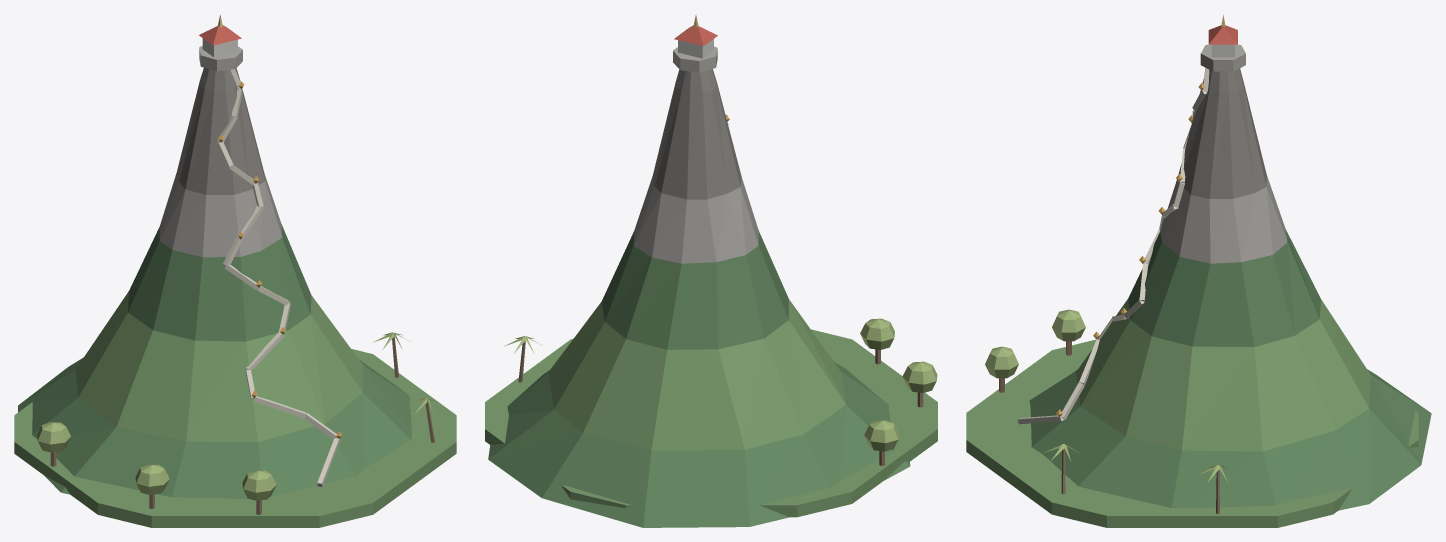
The model's file is sri-pada.glb.
3 views of the same model, side by side, from view 1: azimuth 30°, elevation 25°; view 2: azimuth 150°, elevation 25°; view 3: azimuth 270°, elevation 25° (orthographic). The views are drawn at different scales.
Visible parts, largest first — view 1: LOD0; view 2: LOD0; view 3: LOD0.
Part boxes in pixels (box(x1,y1,x2,y2)): LOD0: box(14, 15, 456, 527); LOD0: box(485, 15, 937, 527); LOD0: box(966, 15, 1431, 527).
Size of what is drawn, in the model's own units: 1.73 by 1.82 by 1.81.
